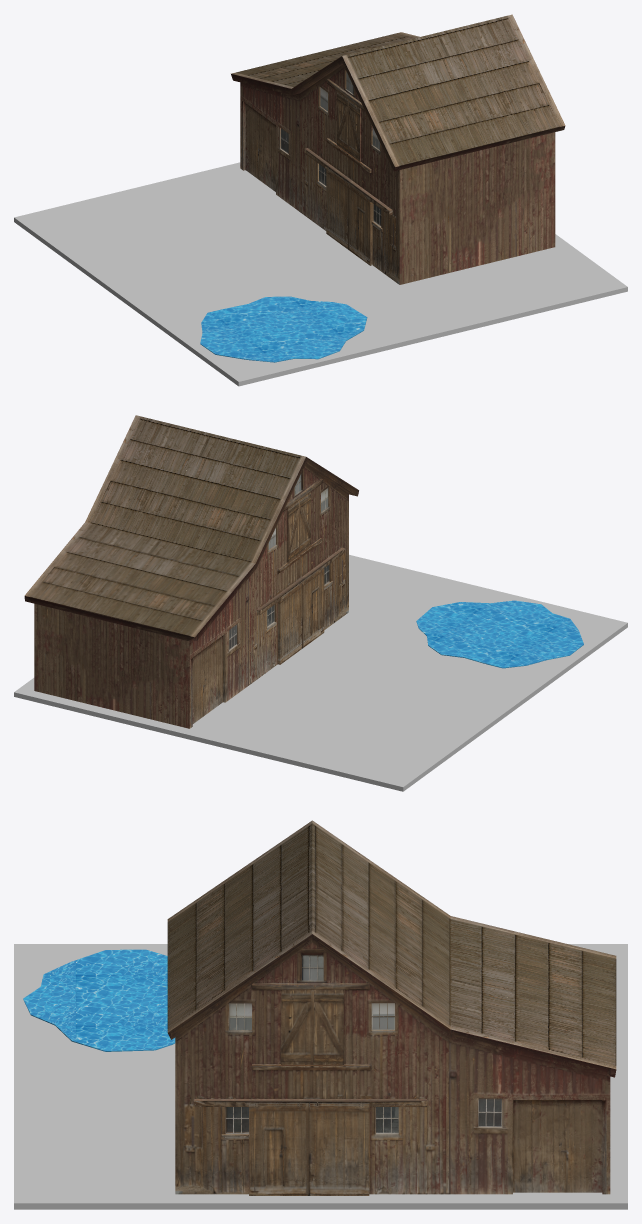
Rendered from habitat-elefante.obj.
3 views of the same model, one above another, from view 1: azimuth 30°, elevation 25°; view 2: azimuth 150°, elevation 25°; view 3: azimuth 270°, elevation 25° (orthographic). The views are drawn at different scales.
Visible parts, largest first — view 1: barn, pCube1, pCylinder1; view 2: barn, pCube1, pCylinder1; view 3: barn, pCube1, pCylinder1.
Part boxes in pixels (x1=…): barn: x1=231, y1=14, x2=565, y2=284; pCube1: x1=14, y1=162, x2=627, y2=386; pCylinder1: x1=200, y1=296, x2=367, y2=362; barn: x1=24, y1=415, x2=358, y2=728; pCube1: x1=14, y1=554, x2=627, y2=791; pCylinder1: x1=416, y1=600, x2=583, y2=668; barn: x1=167, y1=820, x2=616, y2=1195; pCube1: x1=14, y1=944, x2=627, y2=1209; pCylinder1: x1=23, y1=949, x2=175, y2=1051.
Bounding box in the file's own units: 70 × 34.14 × 70.
